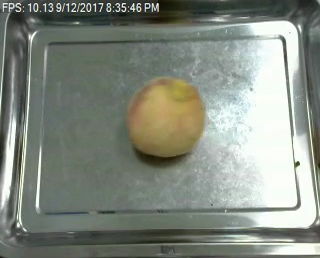Peach: (126, 76, 204, 157)
